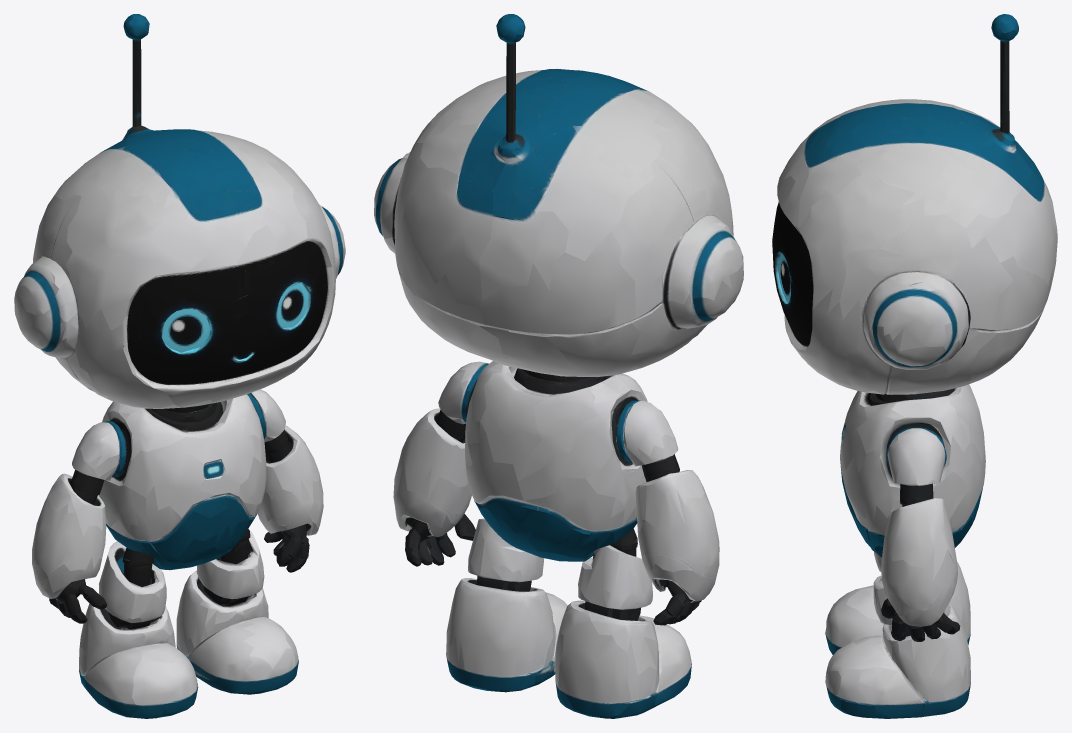
Rendered from jocy.glb.
3 renders of one model, left to right at view 1: azimuth 30°, elevation 25°; view 2: azimuth 150°, elevation 25°; view 3: azimuth 270°, elevation 25°, orthographic. The views are drawn at different scales.
Visible parts, largest first — view 1: output_unwrapped; view 2: output_unwrapped; view 3: output_unwrapped.
Boxes of the visible parts, bbox=[...] form: output_unwrapped: bbox=[14, 14, 345, 718]; output_unwrapped: bbox=[374, 14, 743, 718]; output_unwrapped: bbox=[772, 14, 1057, 718].
Bounding box in the file's own units: 0.9913 × 1.9 × 0.748.
1 material, 1 textured.
